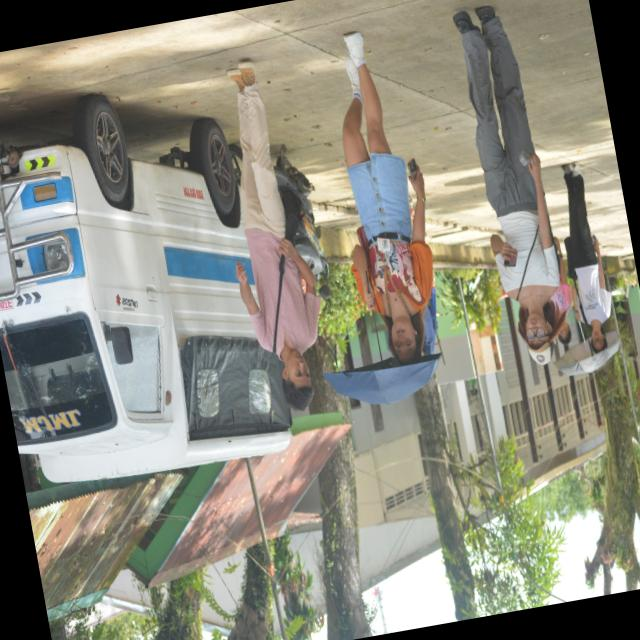person: (454, 5, 565, 363), (228, 60, 321, 409), (343, 31, 433, 362), (562, 163, 611, 351), (549, 218, 572, 312)
